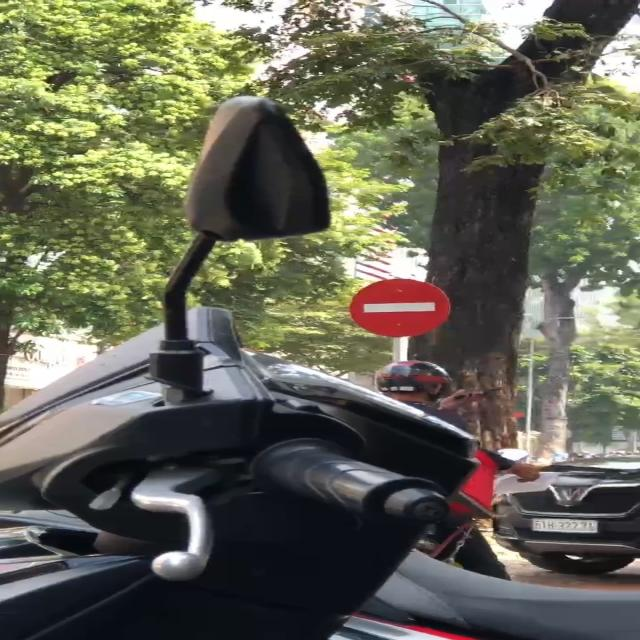Bien bao cam di nguoc chieu: (346, 274, 452, 340)
